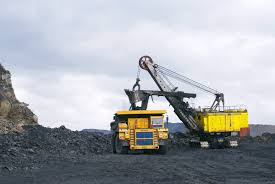excavator: (108, 91, 197, 157)
